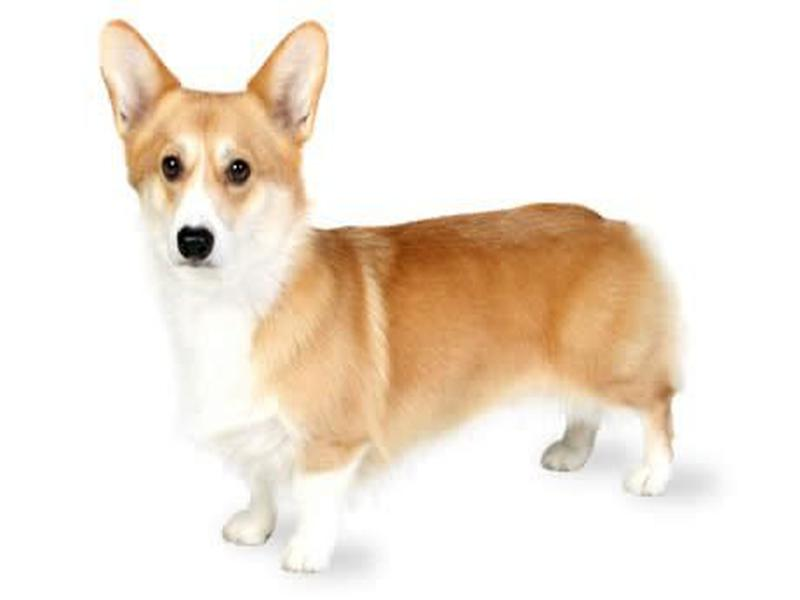corgi: (94, 17, 331, 285)
